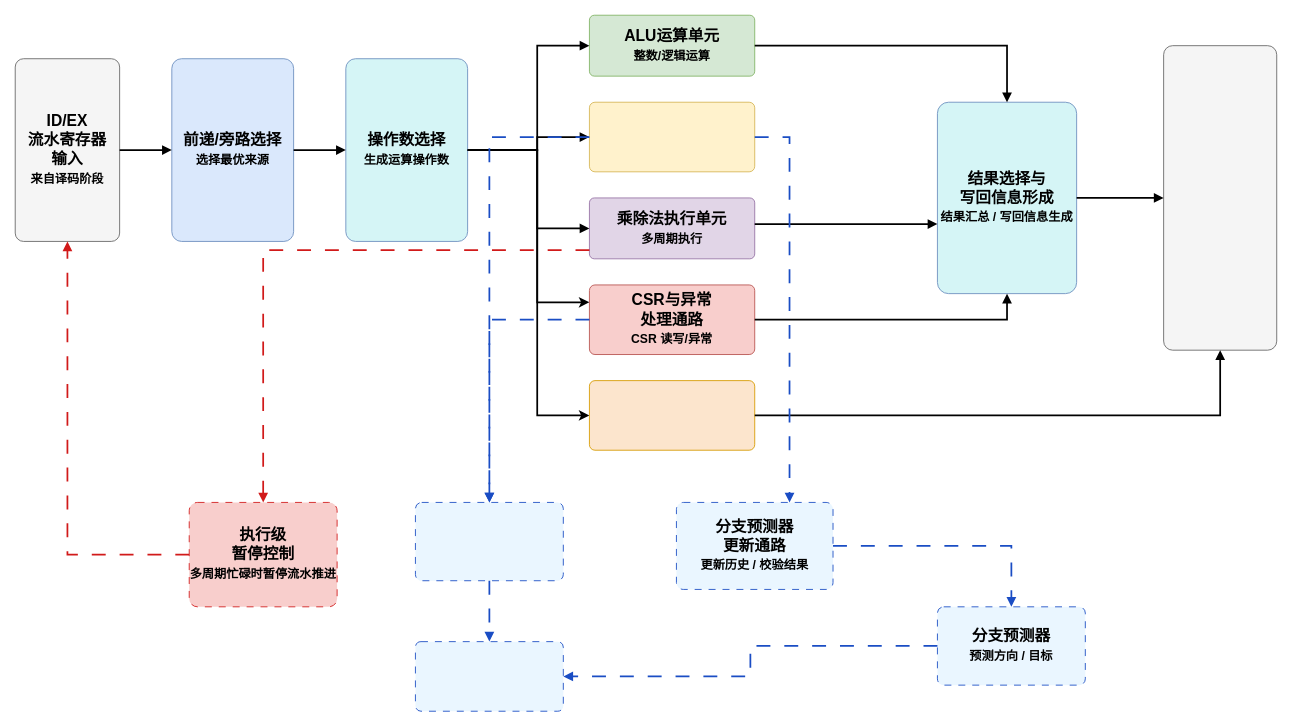
Some shapes in this 1292 by 726 pixel diagram are drawn without their labels. The centre of each missing label's shape, as x and y in pixels:
"EX/MEM 流水寄存器 输出 结果与访存信息送往下一阶段" goes at point 1220,197.
"PC更新模块 选择下一条 PC" goes at point 489,676.
"PC重定向通路 生成目标地址 / 重定向请求" goes at point 489,541.
"分支判断与 预测校验 比较在 EX 完成" goes at point 672,136.
"访存地址与 写数据生成 地址计算/写数据" goes at point 672,415.
